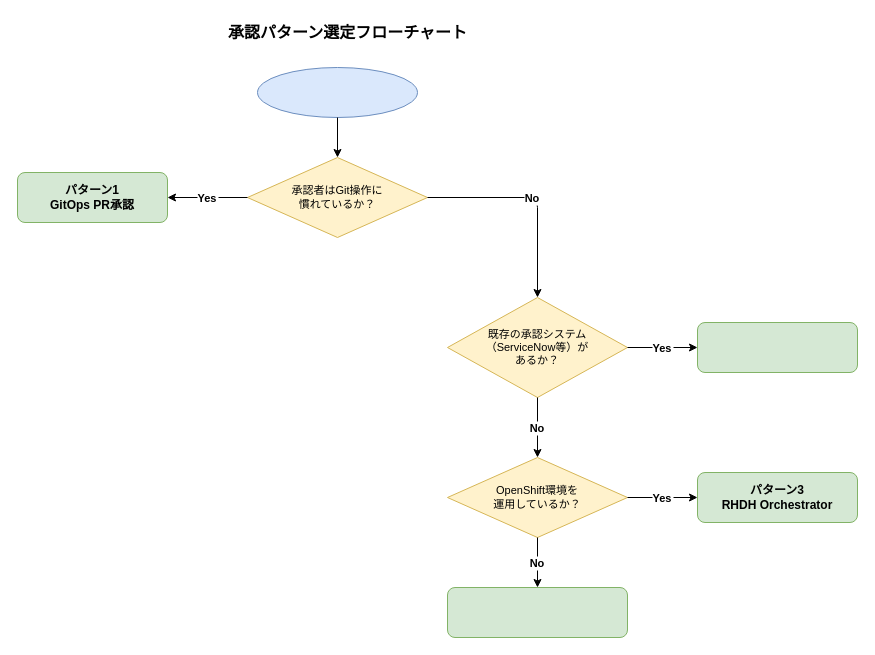
Image size: 875x655. Some labels were removed from this diagram. Here are the shapes that lost their labels. From the top down, the centre of each, then its label:
At point (337, 92): "承認フローが必要".
At point (777, 347): "パターン2 外部WFシステム連携".
At point (537, 612): "パターン1から開始 （段階的に移行）".
